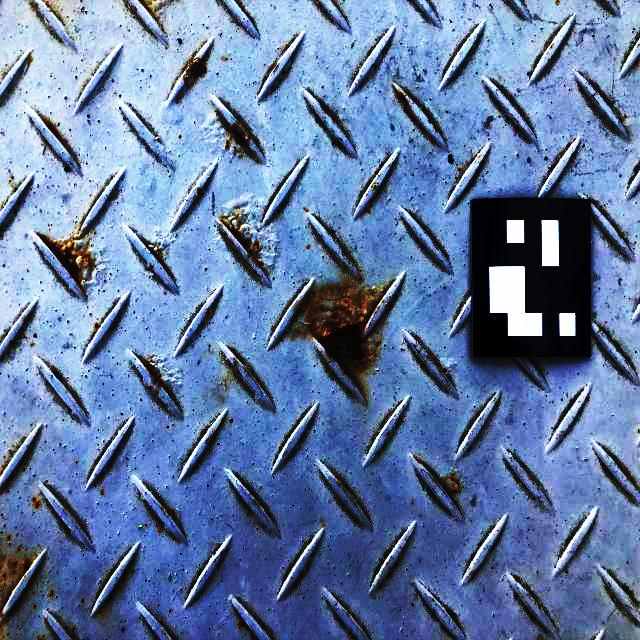Corrosion: (303, 285, 386, 374), (36, 235, 92, 286), (222, 216, 258, 261), (143, 361, 164, 386), (232, 124, 249, 148), (18, 559, 31, 583), (188, 60, 204, 78), (444, 476, 459, 494), (399, 92, 410, 105)
